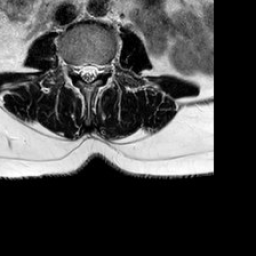CCS_normal: (84, 53, 91, 91)
LFS_normal: (99, 54, 107, 82)
LLS_normal: (91, 54, 99, 84)
RFS_normal: (69, 54, 77, 80)
RLS_normal: (77, 55, 84, 84)
